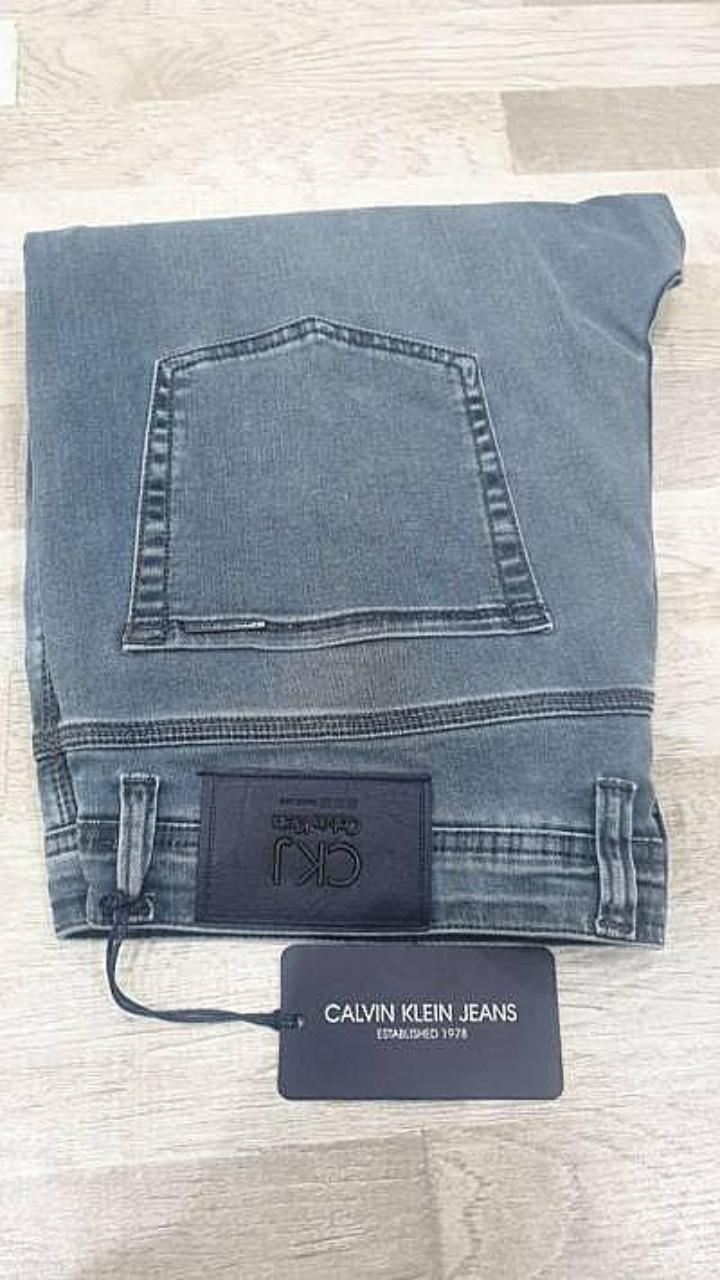Jeans: (25, 194, 683, 944)
